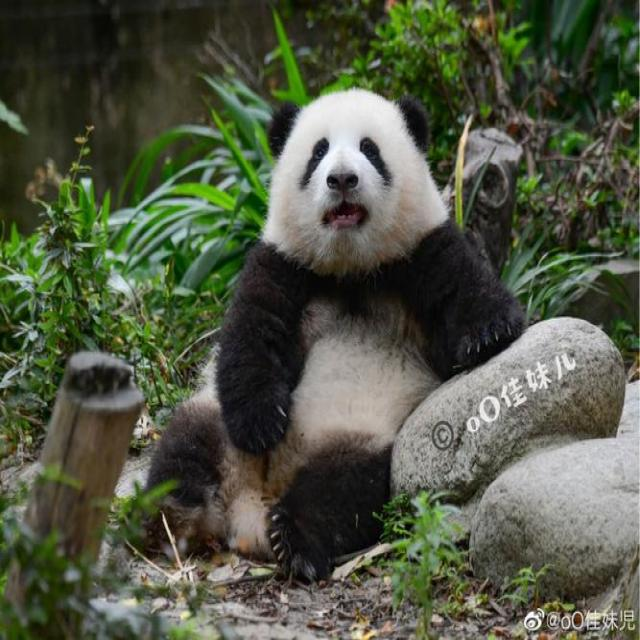panda: (190, 66, 544, 580)
